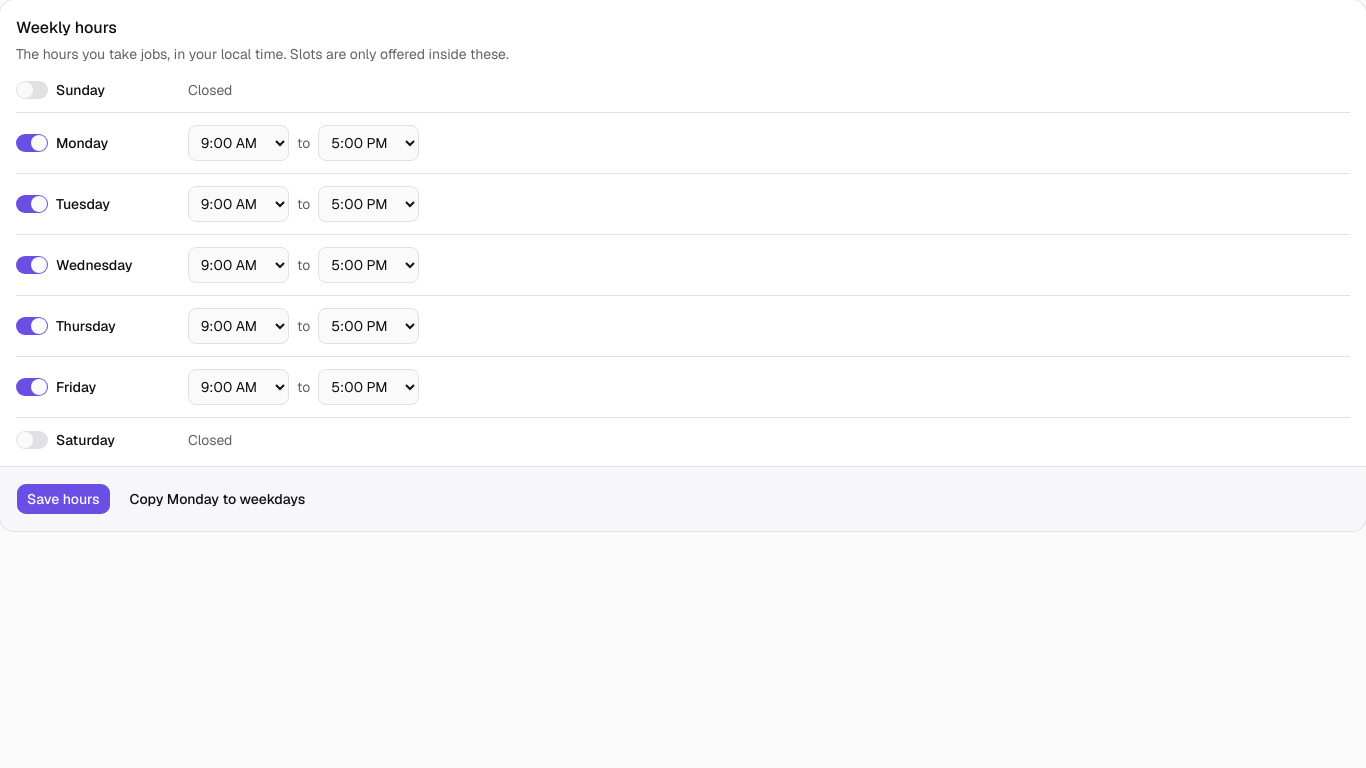
HoursEditor › refuses to save a day that closes before it opens
Select "8:00 AM" in the dropdown named "Monday closing time": [369, 143] box [318,125,419,161]
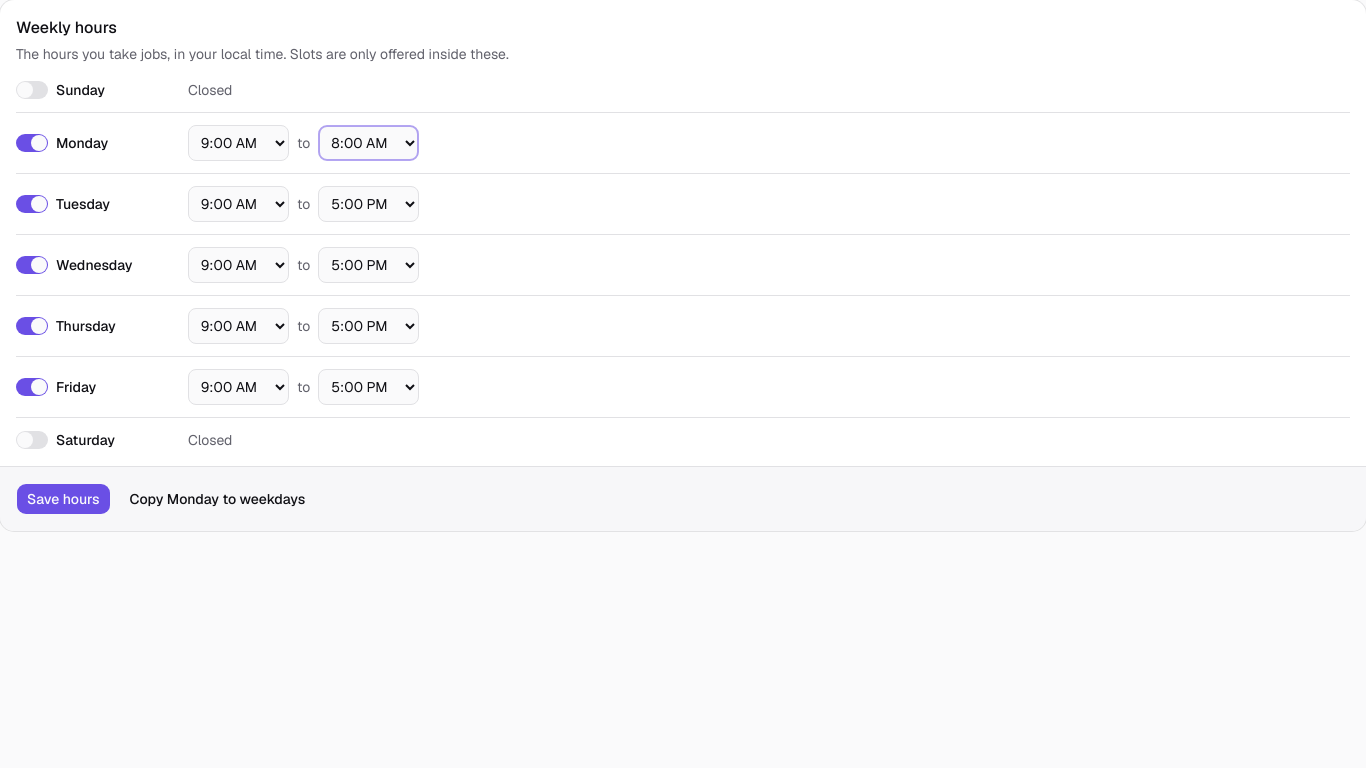
Click the button "Save hours": [63, 499] box [16,483,111,515]
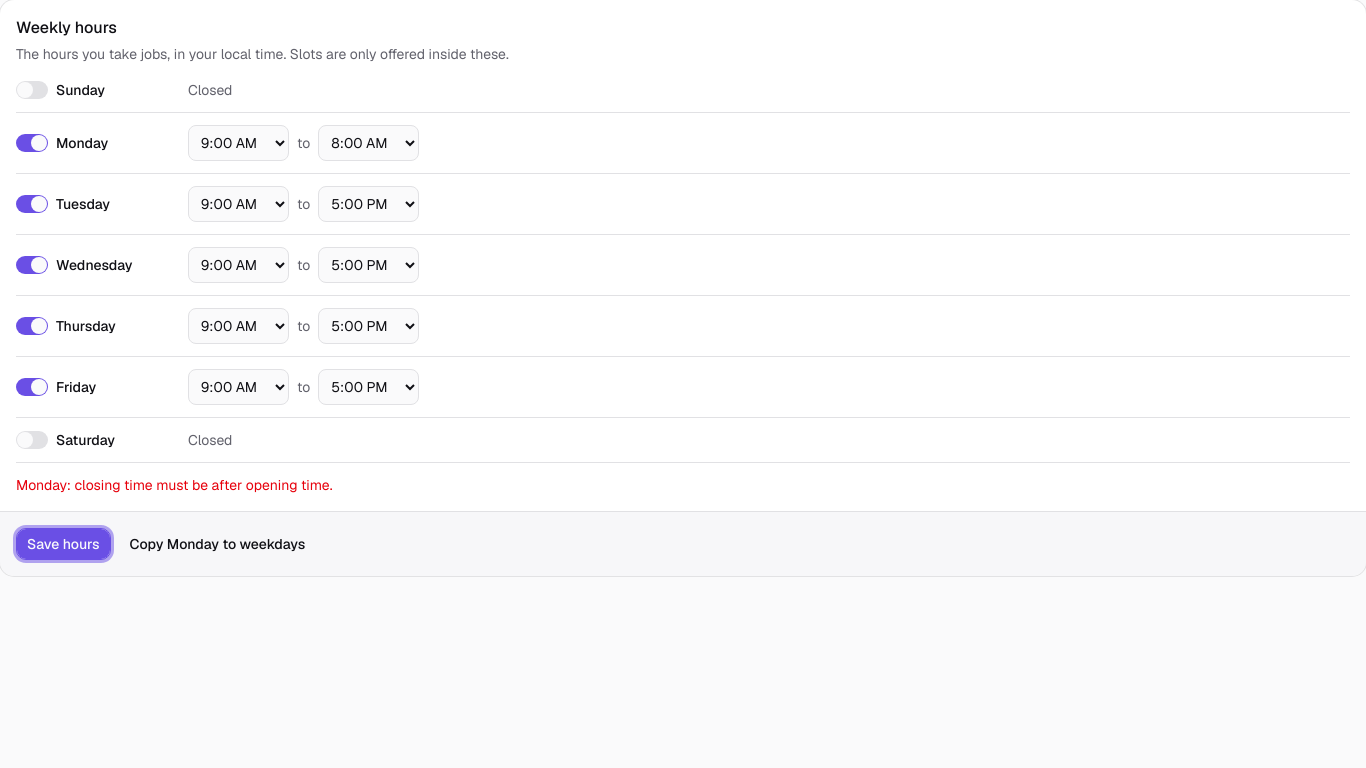
Check: the message shows "Monday", box [16,476,332,494]
